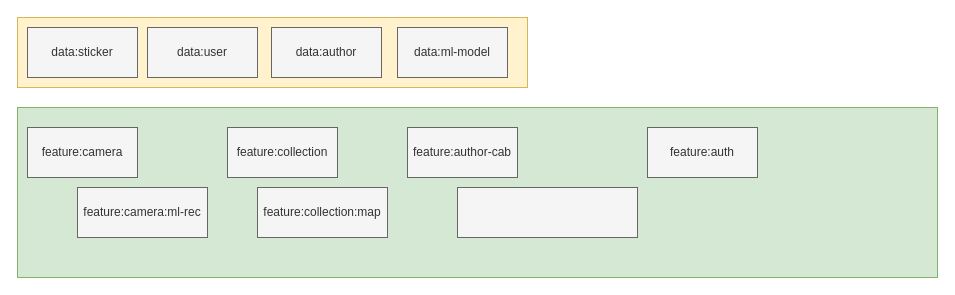
Image size: 955x295. Some labels were removed from this diagram. The box of each missing label's shape, as (x1, y1, x2, y2) in pixels:
feature:author-cab:notification: (456, 186, 638, 238)
Object: (16, 16, 528, 88)
